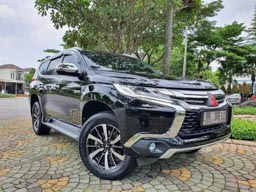plat: (201, 109, 229, 125)
